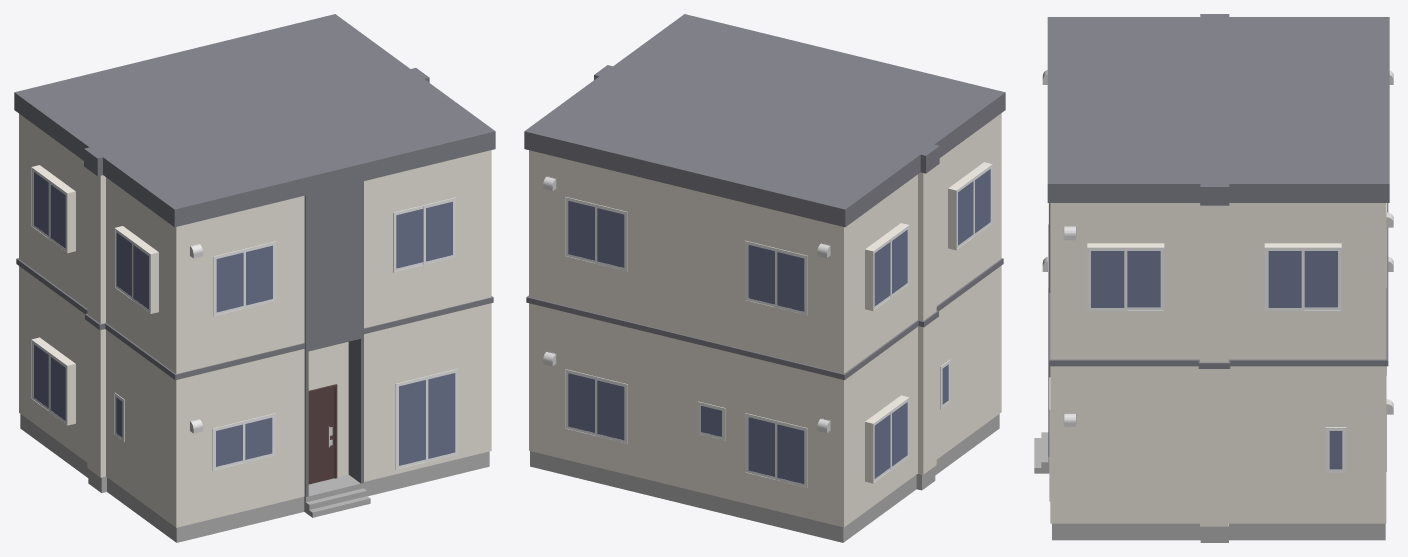
Rendered from MobHouse20.fbx.
3 views of the same model, side by side, from view 1: azimuth 30°, elevation 25°; view 2: azimuth 150°, elevation 25°; view 3: azimuth 270°, elevation 25° (orthographic). The views are drawn at different scales.
Visible parts, largest first — view 1: Flat_half_house01.020; view 2: Flat_half_house01.020; view 3: Flat_half_house01.020.
Part boxes in pixels (x1,y1,x2,y2): Flat_half_house01.020: [14, 14, 495, 542]; Flat_half_house01.020: [524, 14, 1005, 542]; Flat_half_house01.020: [1034, 14, 1393, 542].
Size of the model in its own units: 6.9 by 6.67 by 6.07.
